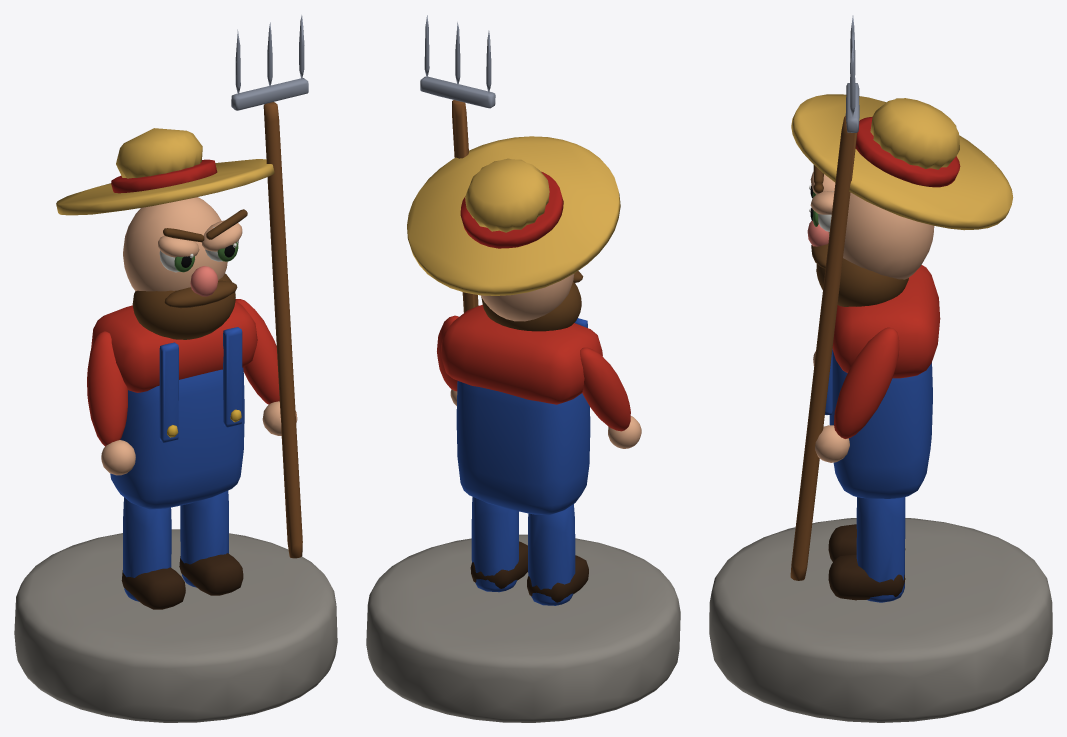
Rendered from MistgabelBauer.fbx.
The picture shows the model from 3 angles, left to right: view 1: azimuth 30°, elevation 25°; view 2: azimuth 150°, elevation 25°; view 3: azimuth 270°, elevation 25°; orthographic projection. The views are drawn at different scales.
Visible parts, largest first — view 1: MistgabelBauer; view 2: MistgabelBauer; view 3: MistgabelBauer.
Boxes of the visible parts, left/top/right/bottom form: MistgabelBauer: left=14, top=15, right=337, bottom=722; MistgabelBauer: left=366, top=15, right=680, bottom=722; MistgabelBauer: left=709, top=15, right=1052, bottom=722.
Size of the model in its own units: 0.9726 by 2.09 by 0.9726.
